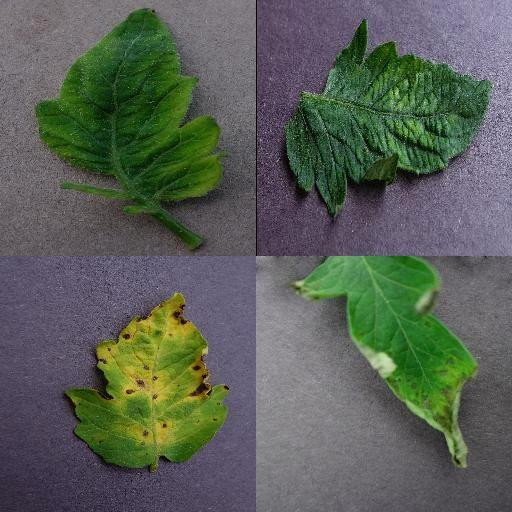Late Blight: (291, 256, 481, 470)
Mosaic Virus: (283, 19, 493, 223)
Septoria: (61, 289, 231, 469)
Yellow Leaf Curl Virus: (34, 6, 230, 200)
